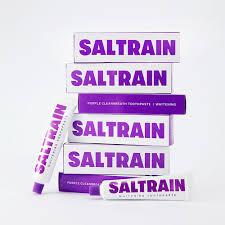toothpaste: (29, 95, 78, 199), (82, 177, 201, 207)
